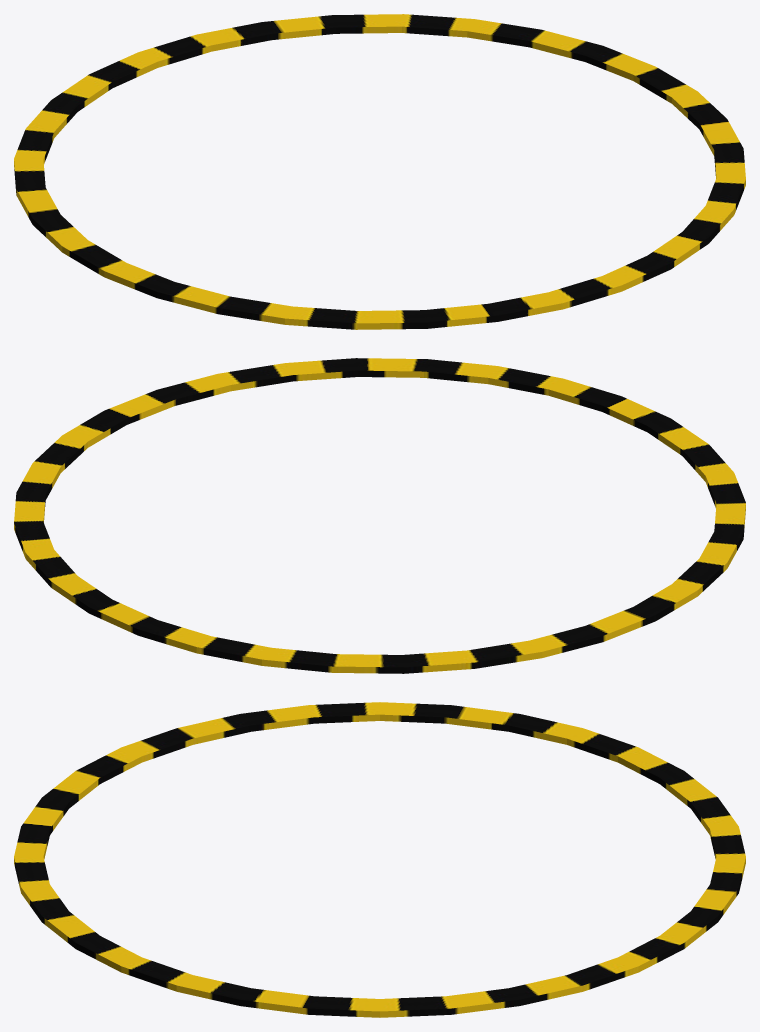
File: _ing.fbx
The picture shows the model from 3 angles, top to bottom: view 1: azimuth 30°, elevation 25°; view 2: azimuth 150°, elevation 25°; view 3: azimuth 270°, elevation 25°; orthographic projection.
Parts seen in each view (by area): view 1: Cylinder.001; view 2: Cylinder.001; view 3: Cylinder.001.
Boxes of the visible parts, x1=… form: Cylinder.001: x1=14, y1=14, x2=745, y2=329; Cylinder.001: x1=14, y1=358, x2=745, y2=673; Cylinder.001: x1=14, y1=702, x2=745, y2=1017.
Size of the model in its own units: 453 by 4.33 by 453.
